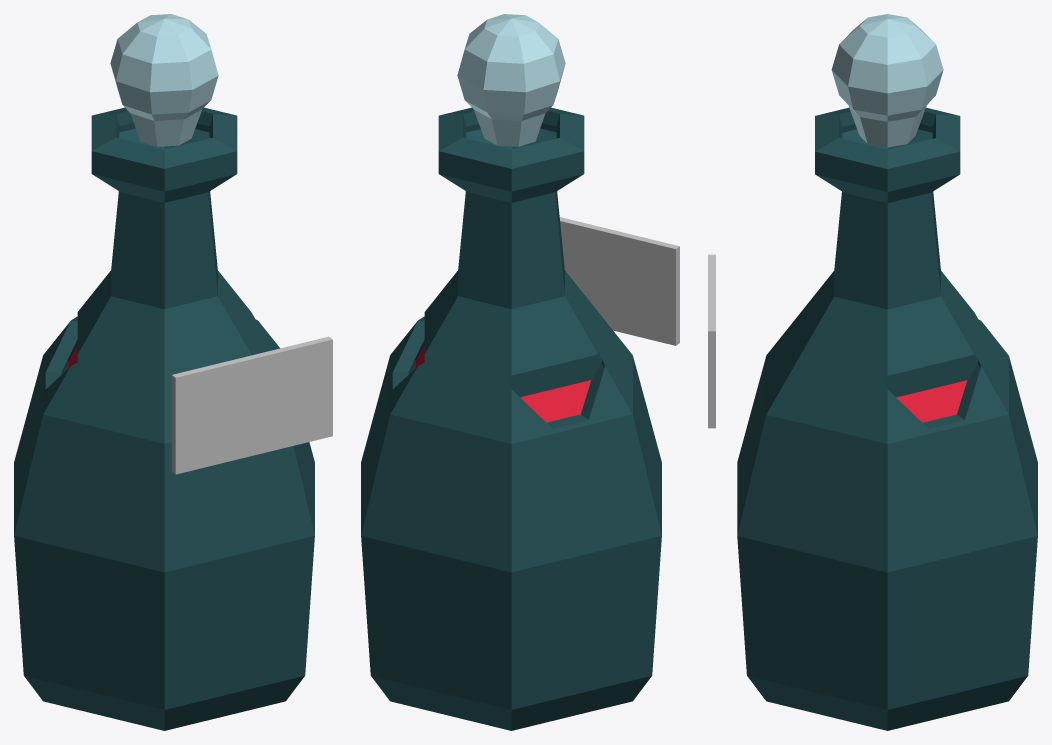
File: x_potion.obj
3 renders of one model, left to right at view 1: azimuth 30°, elevation 25°; view 2: azimuth 150°, elevation 25°; view 3: azimuth 270°, elevation 25°, orthographic.
Visible parts, largest first — view 1: A_Flask.001_x_potion_glass, C_Label.001_x_potion_label, S_Stopper.001_x_potion_stopper; view 2: A_Flask.001_x_potion_glass, S_Stopper.001_x_potion_stopper, C_Label.001_x_potion_label, A_Liquid.001_x_potion_liquid; view 3: A_Flask.001_x_potion_glass, S_Stopper.001_x_potion_stopper, A_Liquid.001_x_potion_liquid, C_Label.001_x_potion_label.
Part boxes in pixels (left/top/right/bottom): A_Flask.001_x_potion_glass: left=14, top=107, right=314, bottom=730; C_Label.001_x_potion_label: left=171, top=336, right=332, bottom=474; S_Stopper.001_x_potion_stopper: left=110, top=14, right=218, bottom=146; A_Flask.001_x_potion_glass: left=361, top=107, right=661, bottom=730; S_Stopper.001_x_potion_stopper: left=457, top=14, right=565, bottom=146; C_Label.001_x_potion_label: left=559, top=217, right=679, bottom=345; A_Liquid.001_x_potion_liquid: left=413, top=345, right=590, bottom=422; A_Flask.001_x_potion_glass: left=737, top=107, right=1037, bottom=730; S_Stopper.001_x_potion_stopper: left=831, top=14, right=943, bottom=147; A_Liquid.001_x_potion_liquid: left=896, top=380, right=967, bottom=422; C_Label.001_x_potion_label: left=708, top=254, right=715, bottom=428.
Bounding box in the file's own units: 1.3 × 2.7 × 1.24.
